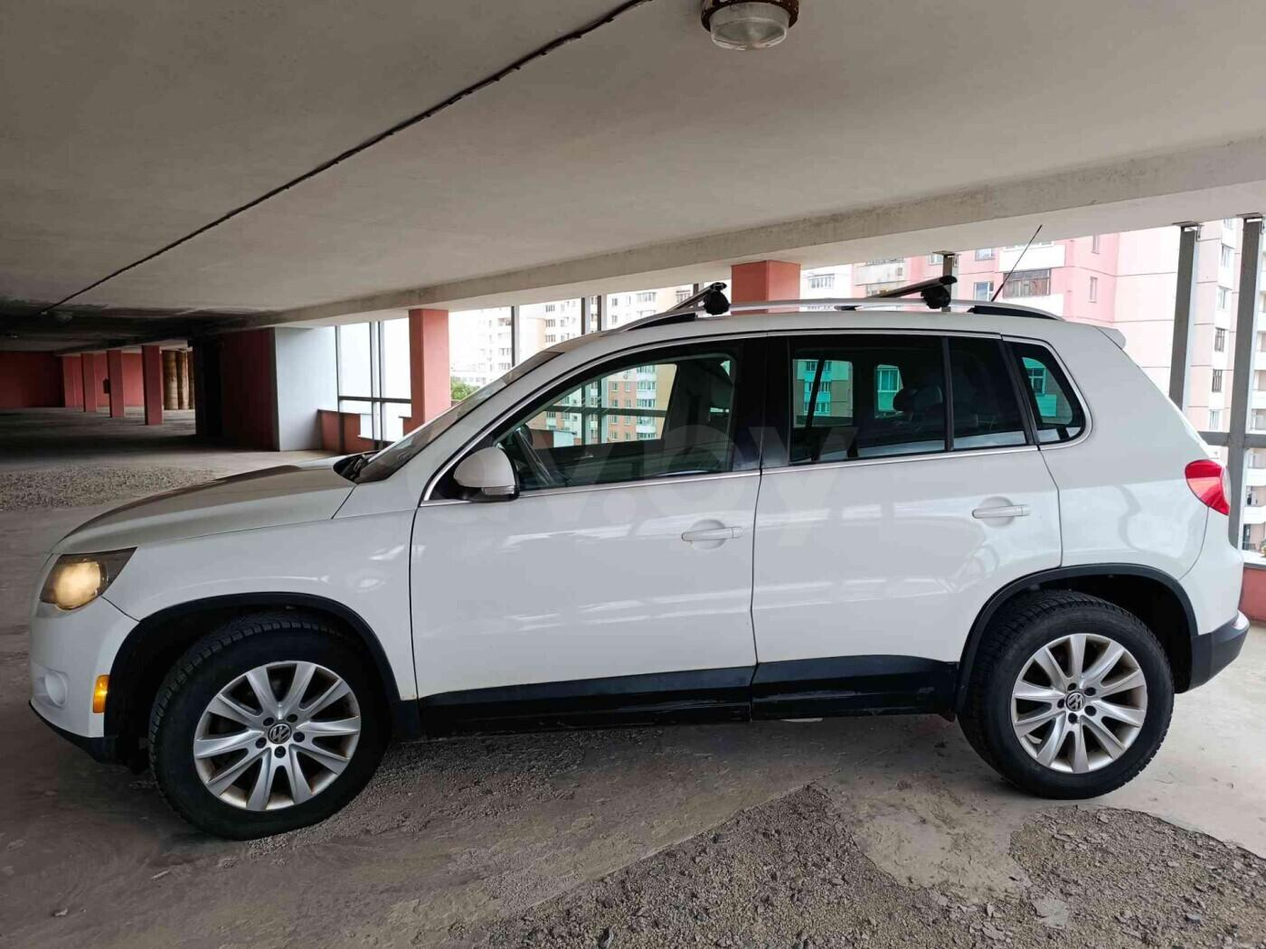Tiguan_2007-2011: (25, 300, 1250, 833)
